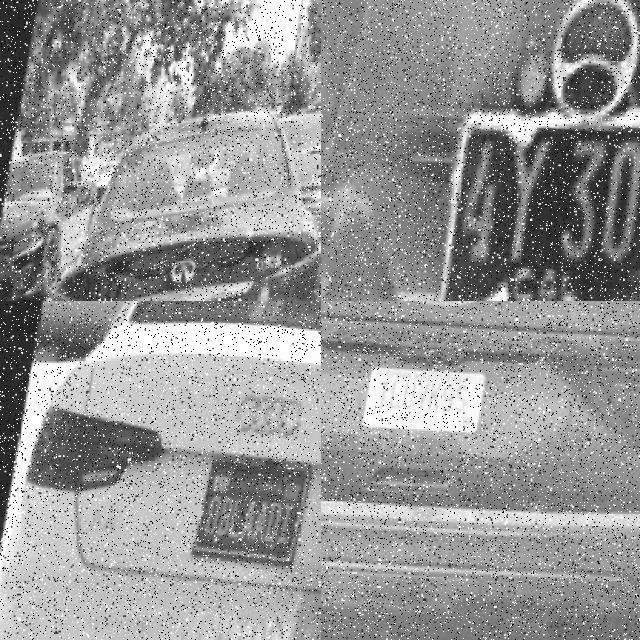LicensePlate: (443, 100, 640, 300), (196, 461, 312, 575), (361, 371, 487, 441)
